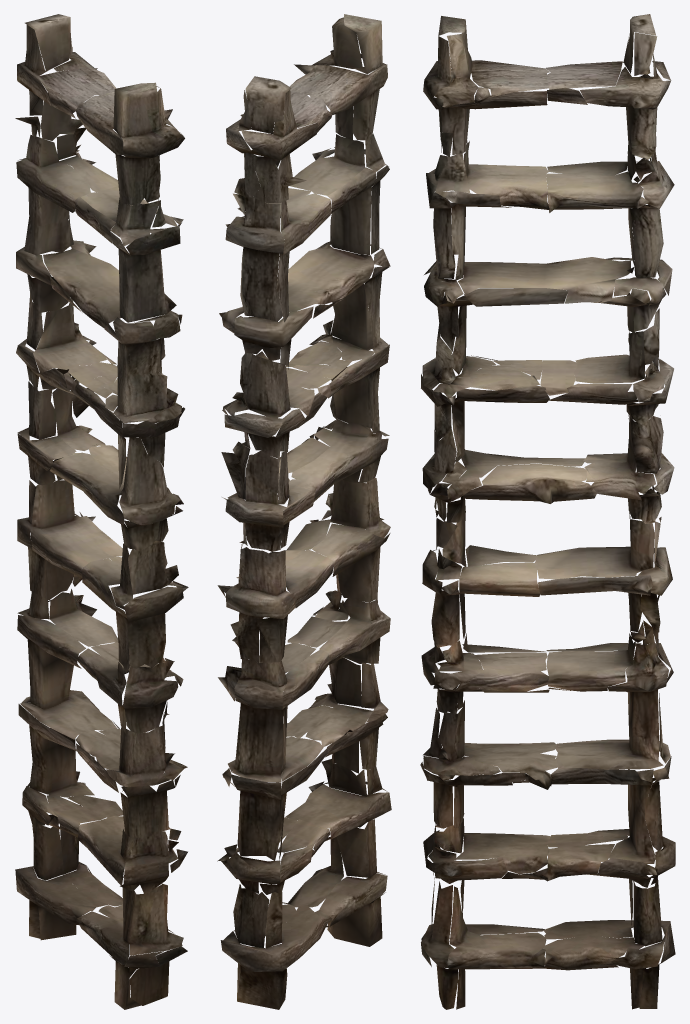
The model's file is ladder.glb.
3 renders of one model, left to right at view 1: azimuth 30°, elevation 25°; view 2: azimuth 150°, elevation 25°; view 3: azimuth 270°, elevation 25°, orthographic. The views are drawn at different scales.
Visible parts, largest first — view 1: tripo_node_120f8d0b-c511-4dbd-9726-a34ba07e7c81; view 2: tripo_node_120f8d0b-c511-4dbd-9726-a34ba07e7c81; view 3: tripo_node_120f8d0b-c511-4dbd-9726-a34ba07e7c81.
Part boxes in pixels (x1,y1,x2,y2): tripo_node_120f8d0b-c511-4dbd-9726-a34ba07e7c81: [15, 14, 188, 1009]; tripo_node_120f8d0b-c511-4dbd-9726-a34ba07e7c81: [217, 14, 391, 1009]; tripo_node_120f8d0b-c511-4dbd-9726-a34ba07e7c81: [420, 14, 675, 1009].
Bounding box in the file's own units: 0.0991 × 0.998 × 0.2369.
Materials: 1 (1 with a texture image).
